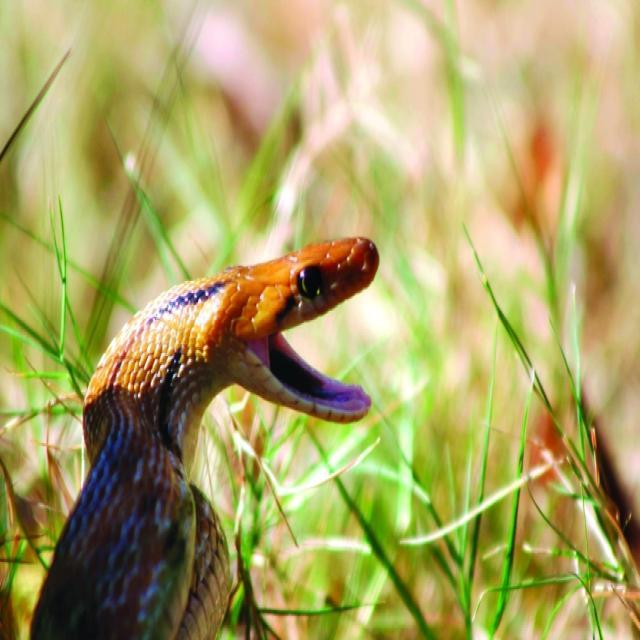Snake: (27, 232, 379, 638)
